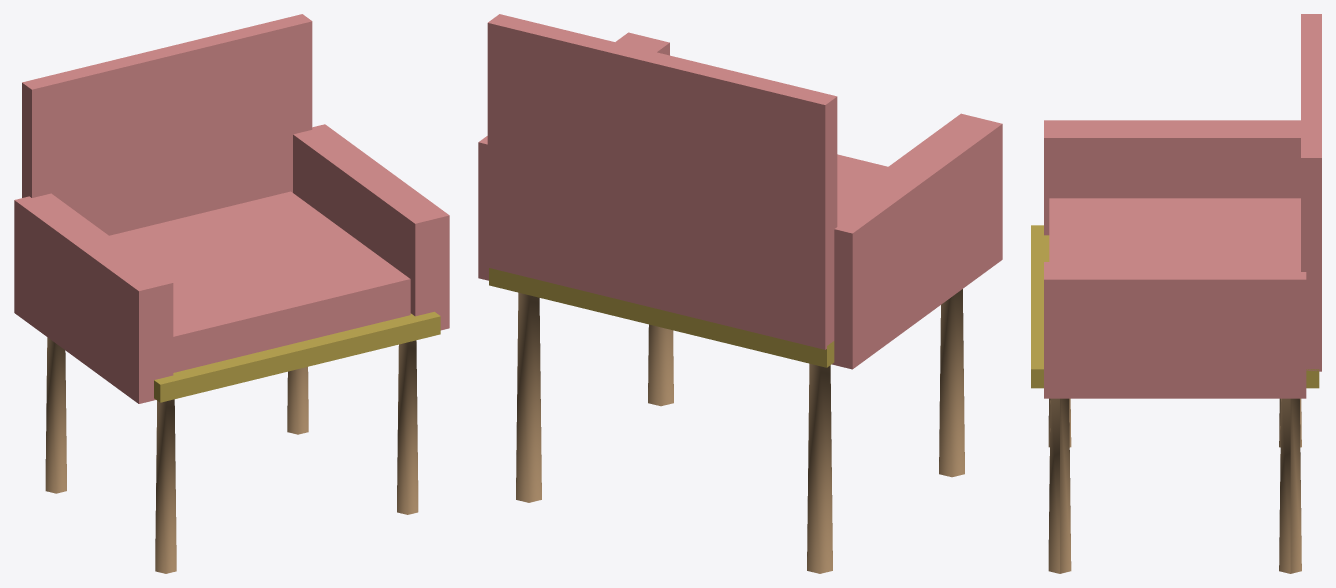
The model's file is armchair.glb.
3 views of the same model, side by side, from view 1: azimuth 30°, elevation 25°; view 2: azimuth 150°, elevation 25°; view 3: azimuth 270°, elevation 25° (orthographic). The views are drawn at different scales.
Parts seen in each view (by area): view 1: back, arms, cushion, legs, seat_frame; view 2: back, arms, legs, seat_frame, cushion; view 3: arms, cushion, legs, back, seat_frame.
Part boxes in pixels (x1,y1,x2,y2): back: (22, 14, 312, 235); arms: (14, 124, 449, 403); cushion: (109, 191, 410, 372); legs: (45, 337, 418, 573); seat_frame: (154, 311, 440, 402); back: (487, 14, 837, 349); arms: (478, 32, 1002, 369); legs: (516, 289, 964, 573); seat_frame: (489, 268, 834, 367); cushion: (837, 154, 887, 203); arms: (1044, 120, 1306, 398); cushion: (1049, 198, 1300, 261); legs: (1048, 398, 1301, 573); back: (1301, 14, 1321, 371); seat_frame: (1031, 225, 1319, 388).
Size of the model in its own units: 0.72 by 0.885 by 0.555.
